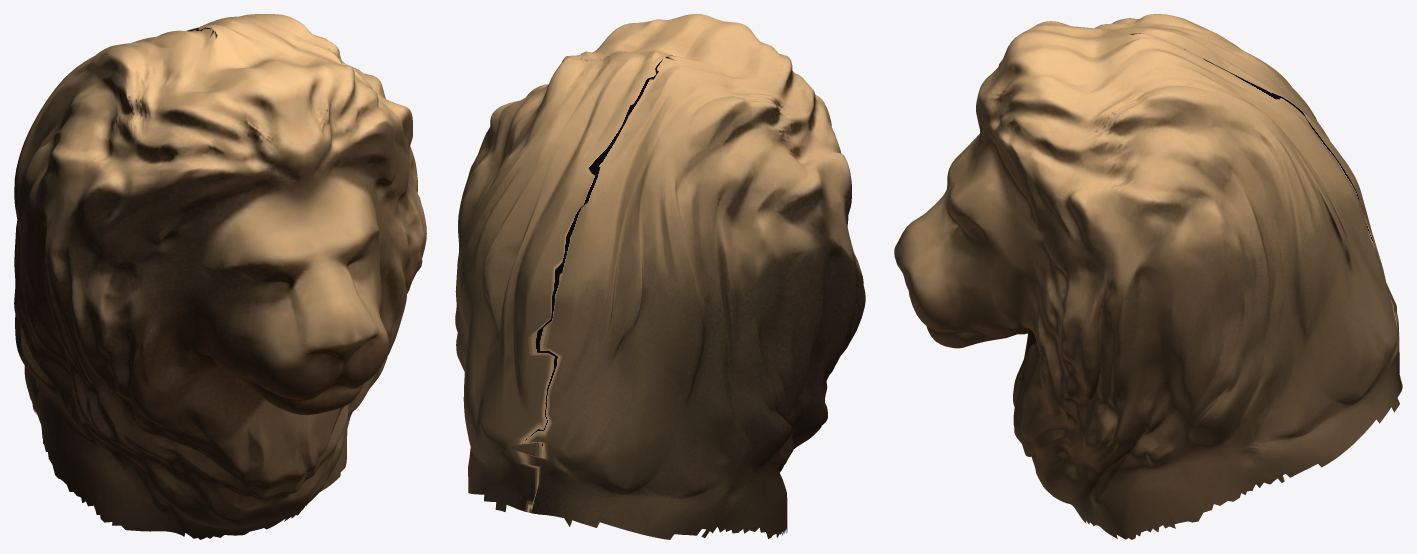
Rendered from lion.glb.
The picture shows the model from 3 angles, left to right: view 1: azimuth 30°, elevation 25°; view 2: azimuth 150°, elevation 25°; view 3: azimuth 270°, elevation 25°; orthographic projection. The views are drawn at different scales.
Size of the model in its own units: 0.5486 by 0.6716 by 0.6661.
Materials: 1 (1 with a texture image).
